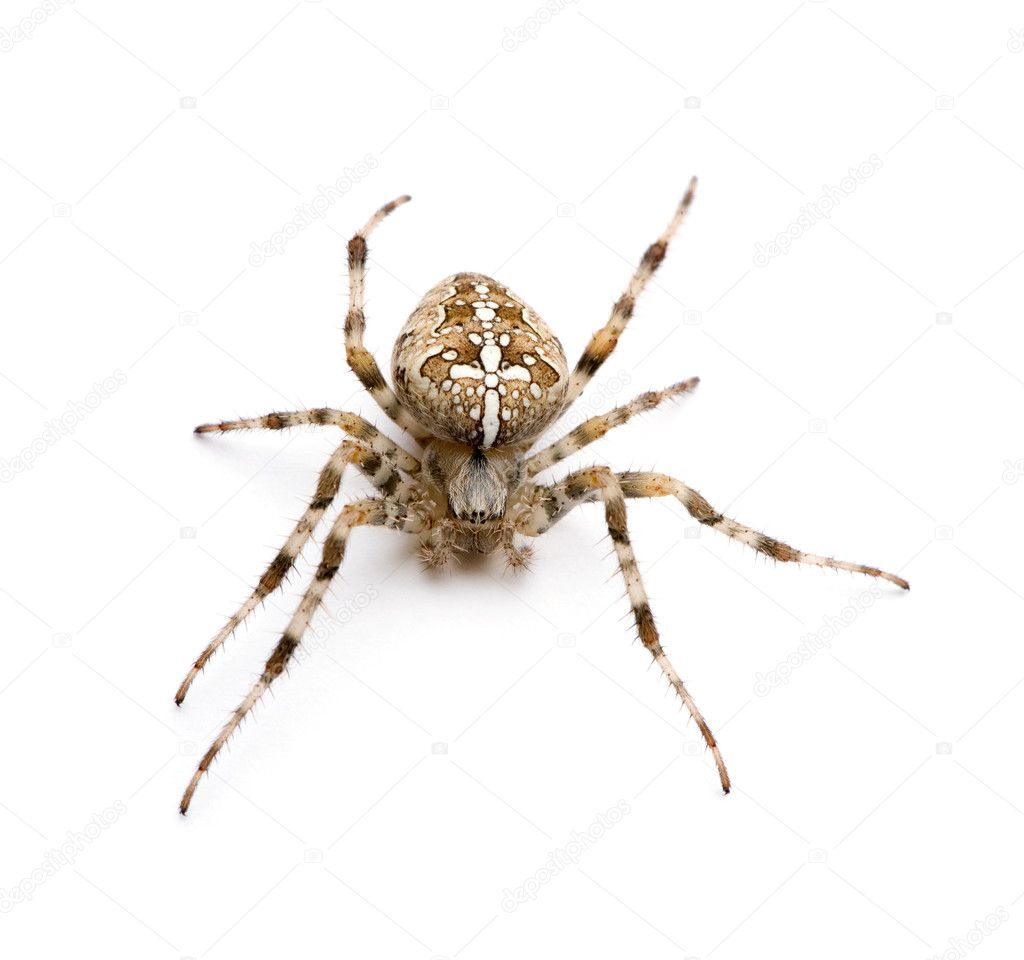spider: (91, 117, 943, 889)
